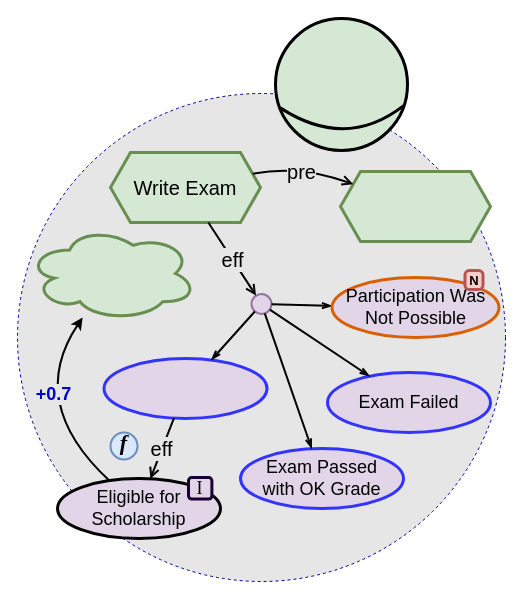
Some shapes in this 523 by 599 pixel diagram are drawn without their labels. The centre of each missing label's shape, as x and y in pixels:
Dispute Grade: pixel 415 206
Exam Passed with High Grade: pixel 185 388
Maximize Financial Support: pixel 112 273
Student: pixel 341 84
